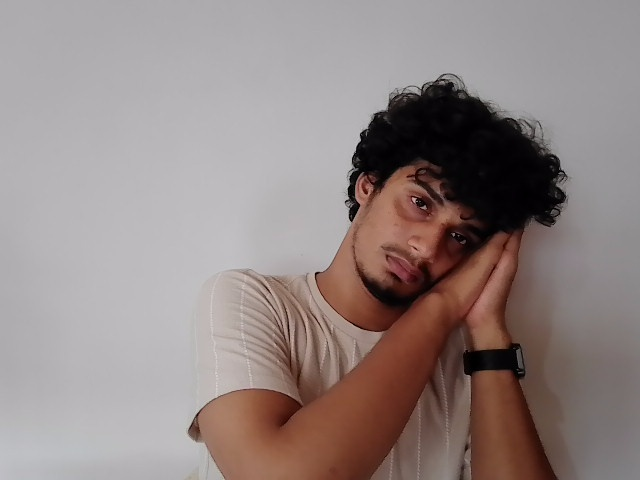sleep: (410, 213, 523, 334)
